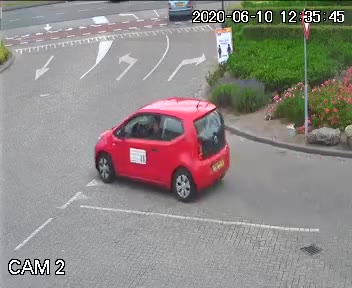car: (87, 88, 242, 206), (164, 0, 197, 26)
